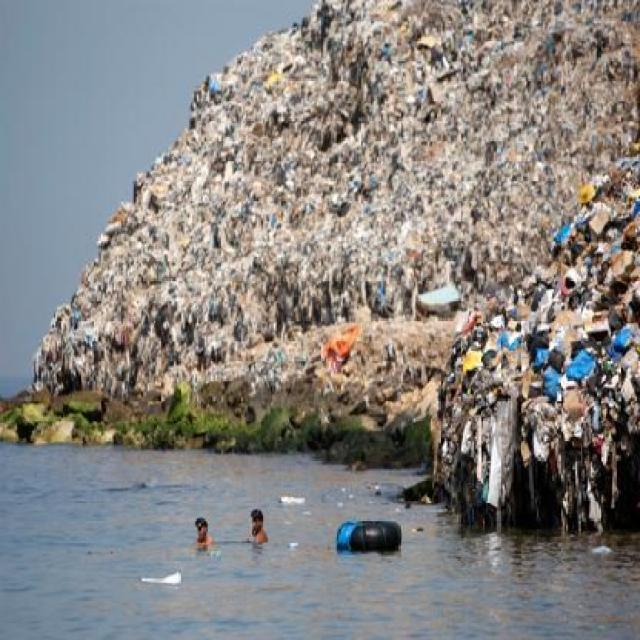garbage: (150, 132, 639, 510), (212, 54, 633, 130), (76, 189, 145, 444), (296, 0, 640, 51), (322, 508, 416, 565), (23, 311, 74, 396), (125, 559, 184, 586)
